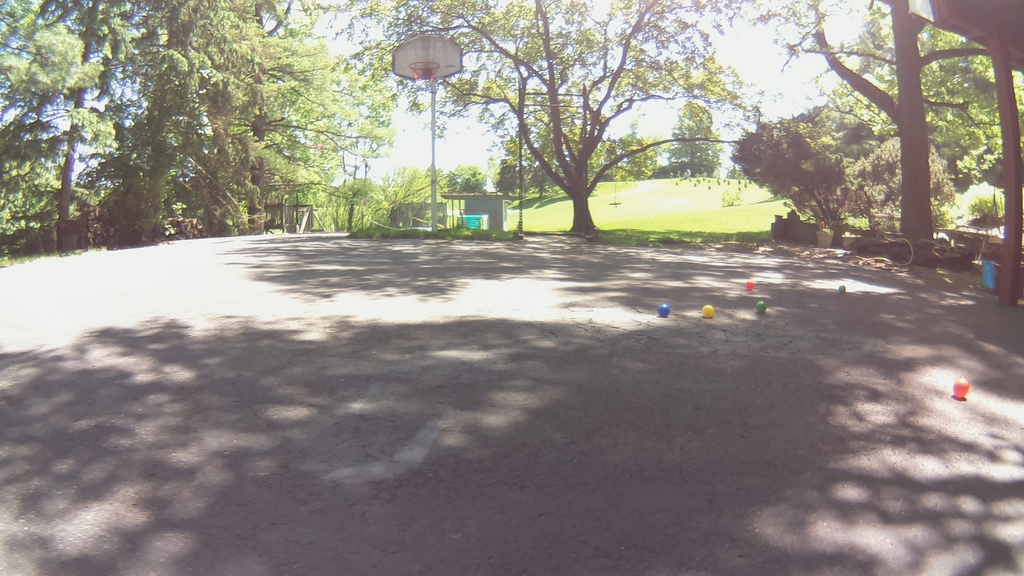ball: (703, 305, 714, 318)
